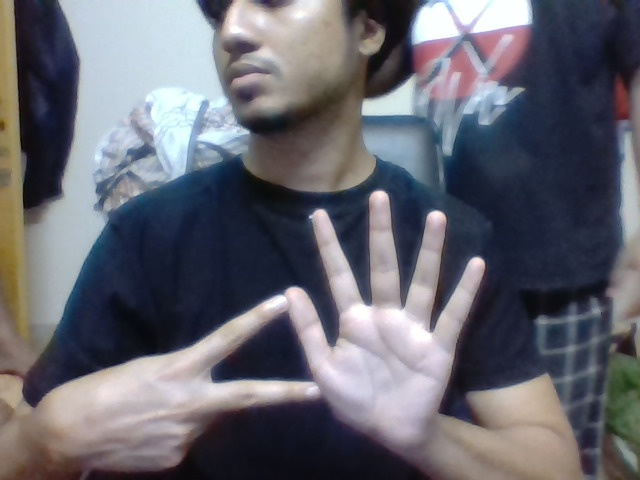N: (181, 293, 286, 418)
